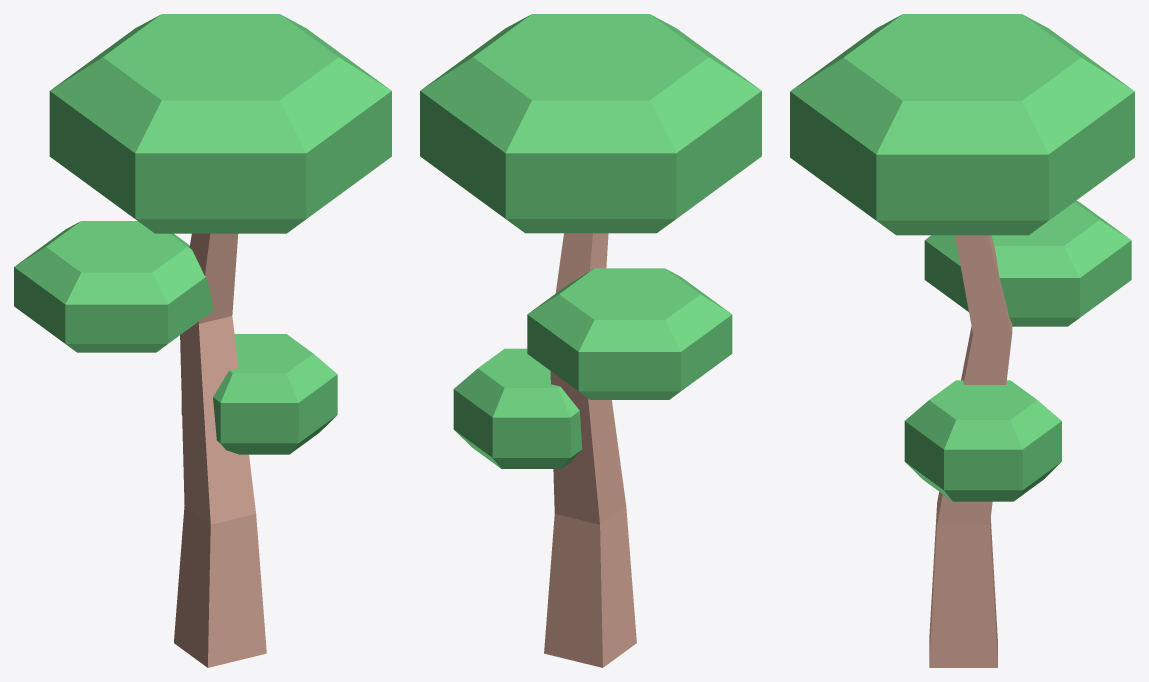
File: n_tree_plateau_dark.glb
The picture shows the model from 3 angles, left to right: view 1: azimuth 30°, elevation 25°; view 2: azimuth 150°, elevation 25°; view 3: azimuth 270°, elevation 25°; orthographic projection.
Visible parts, largest first — view 1: tree_plateau_dark; view 2: tree_plateau_dark; view 3: tree_plateau_dark.
Boxes of the visible parts, x1,y1,x2,y2 form: tree_plateau_dark: (14,14,391,667); tree_plateau_dark: (420,14,761,667); tree_plateau_dark: (790,14,1134,667).
Size of the model in its own units: 2.69 by 5.5 by 2.88.
